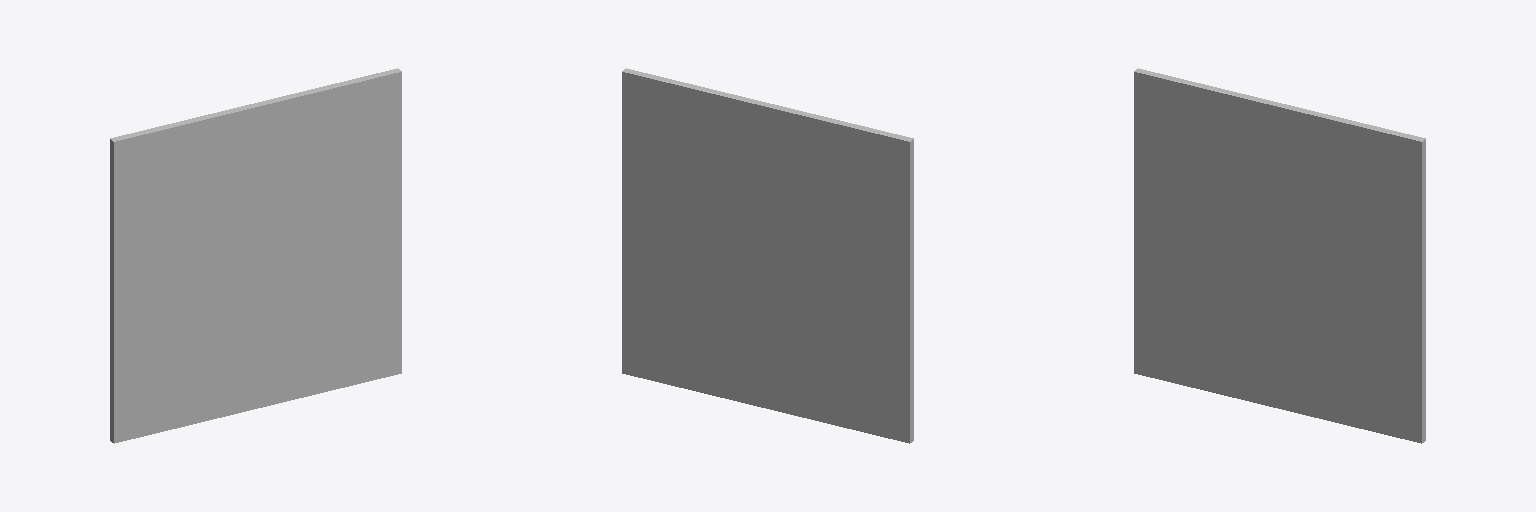
File: backpanel.obj
3 views of the same model, side by side, from view 1: azimuth 30°, elevation 25°; view 2: azimuth 150°, elevation 25°; view 3: azimuth 330°, elevation 25° (orthographic).
Parts seen in each view (by area): view 1: Plane; view 2: Plane; view 3: Plane.
Boxes of the visible parts, x1=… form: Plane: x1=110, y1=68, x2=401, y2=443; Plane: x1=622, y1=68, x2=913, y2=443; Plane: x1=1134, y1=68, x2=1425, y2=443.
Bounding box in the file's own units: 4 × 4 × 0.1081.